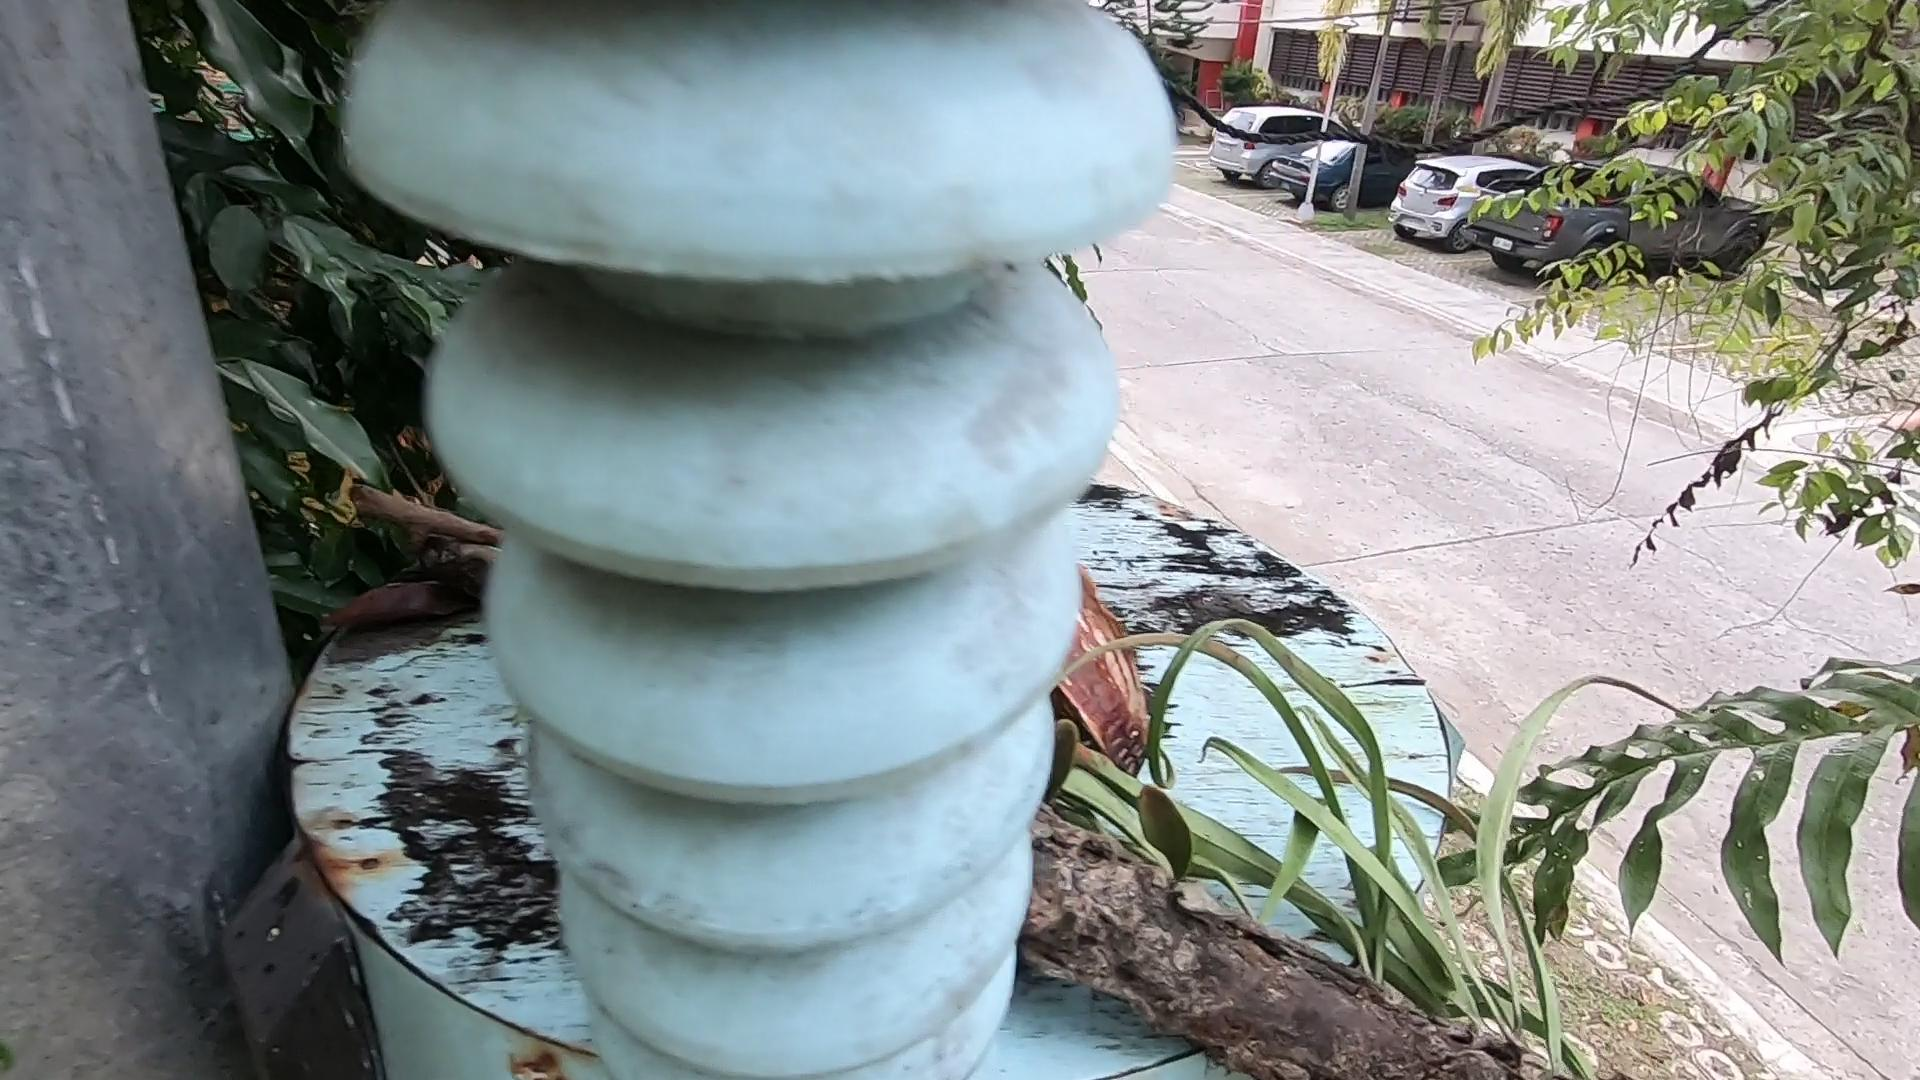branch with leaves: (1040, 818, 1464, 1080)
leaf: (331, 580, 464, 634)
mahogany fruit: (915, 462, 1331, 895)
tree branch: (345, 484, 501, 576)
